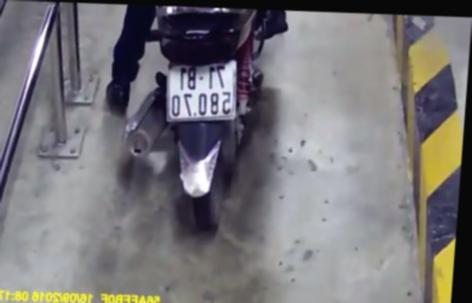License_Plate: (157, 54, 242, 129)
